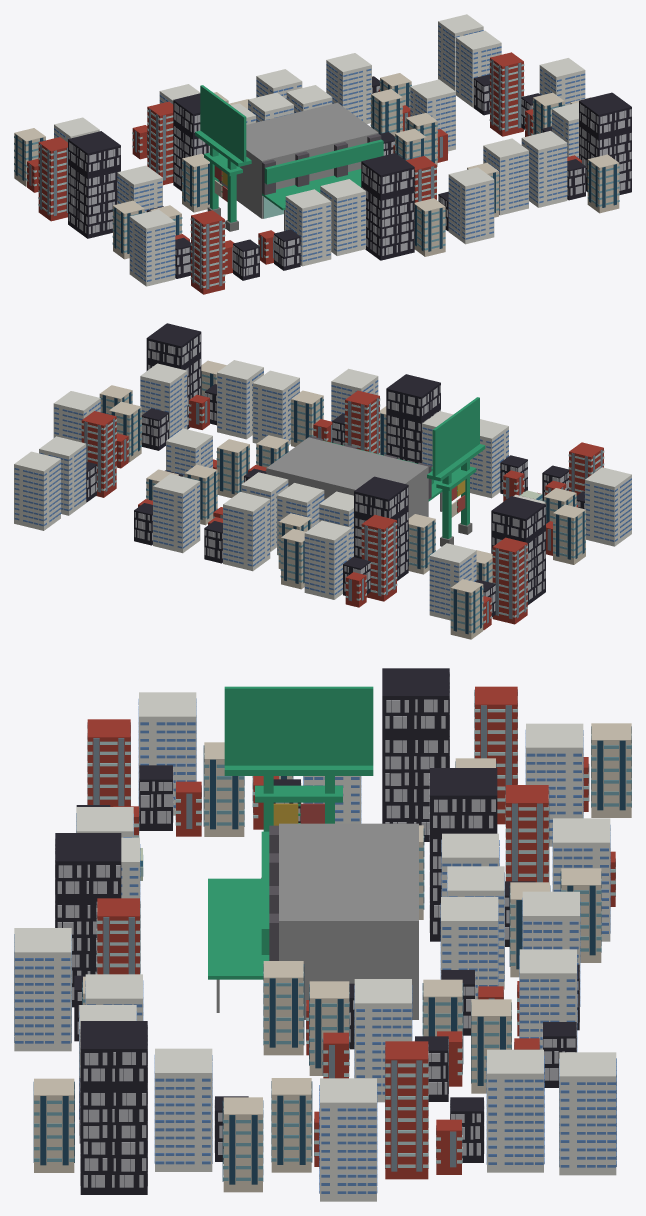
Rendered from level4 buliding.fbx.
The picture shows the model from 3 angles, top to bottom: view 1: azimuth 30°, elevation 25°; view 2: azimuth 150°, elevation 25°; view 3: azimuth 270°, elevation 25°; orthographic projection. The views are drawn at different scales.
Visible parts, largest first — view 1: building; view 2: building; view 3: building.
Part boxes in pixels (bbox=[...]): building: bbox=[14, 14, 631, 294]; building: bbox=[14, 323, 631, 639]; building: bbox=[14, 668, 631, 1201].
Bounding box in the file's own units: 64912 × 16176 × 41283.
